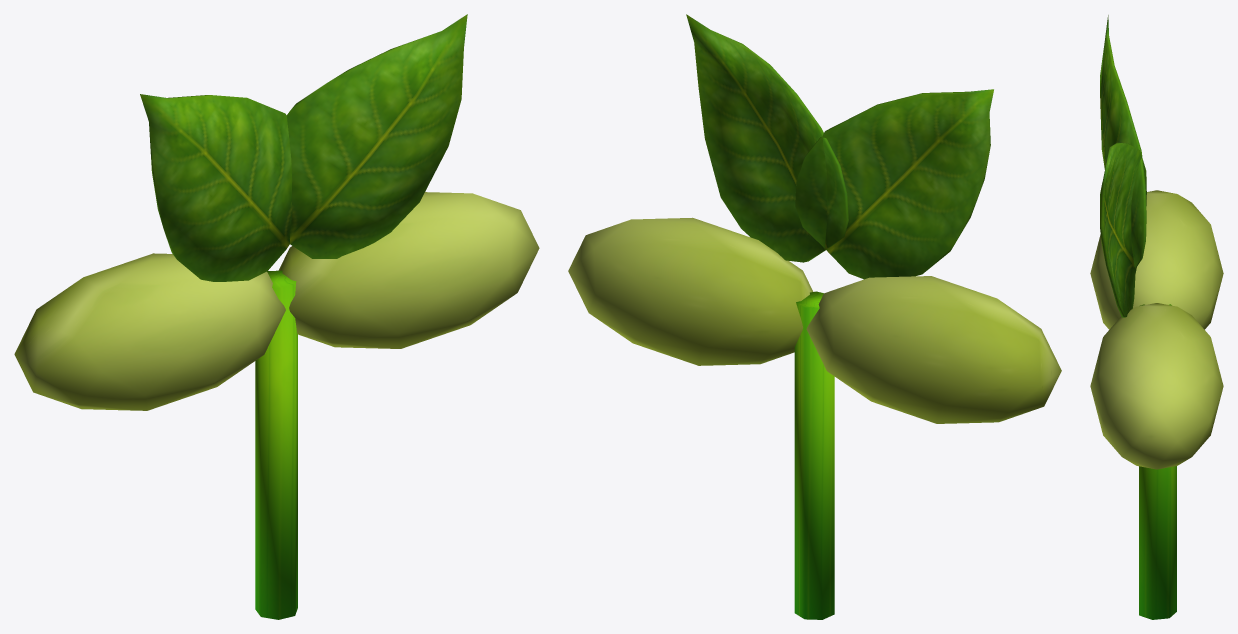
The model's file is NP_GreenBean_Sprout_LOD1.fbx.
3 views of the same model, side by side, from view 1: azimuth 30°, elevation 25°; view 2: azimuth 150°, elevation 25°; view 3: azimuth 270°, elevation 25° (orthographic). The views are drawn at different scales.
Parts seen in each view (by area): view 1: NP_GreenBean_Sprout; view 2: NP_GreenBean_Sprout; view 3: NP_GreenBean_Sprout.
Part boxes in pixels (x1=…): NP_GreenBean_Sprout: x1=14, y1=14, x2=539, y2=619; NP_GreenBean_Sprout: x1=568, y1=14, x2=1061, y2=619; NP_GreenBean_Sprout: x1=1090, y1=15, x2=1223, y2=619.
Size of the model in its own units: 23.79 by 26.07 by 6.
